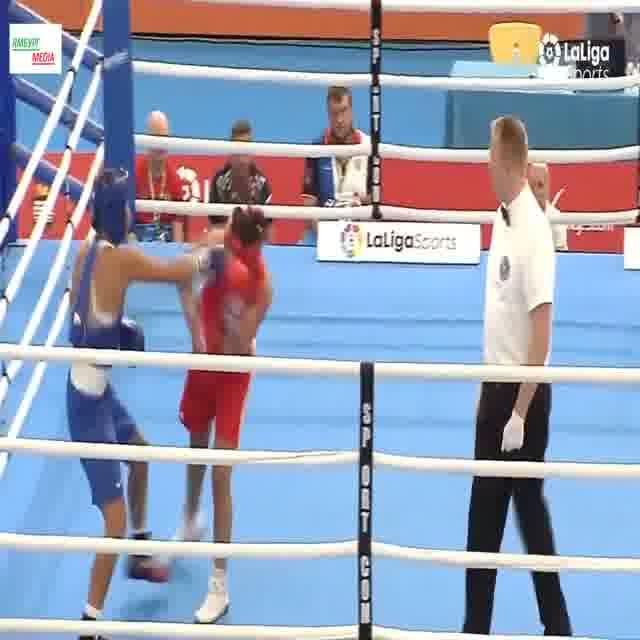blue-player: (59, 163, 228, 640)
red-player: (175, 200, 276, 640)
referee: (459, 107, 574, 640)
